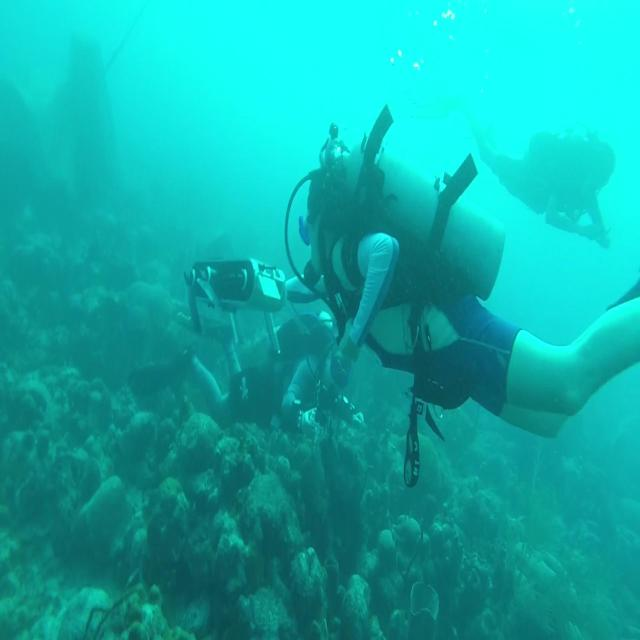human: (285, 104, 639, 487), (468, 115, 616, 249)
